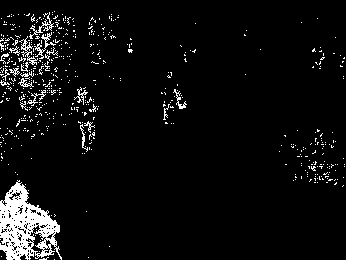person: (72, 87, 106, 152), (159, 70, 190, 128)
